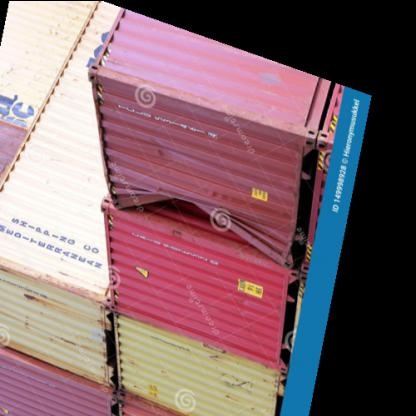Damage: (136, 180, 256, 257)
